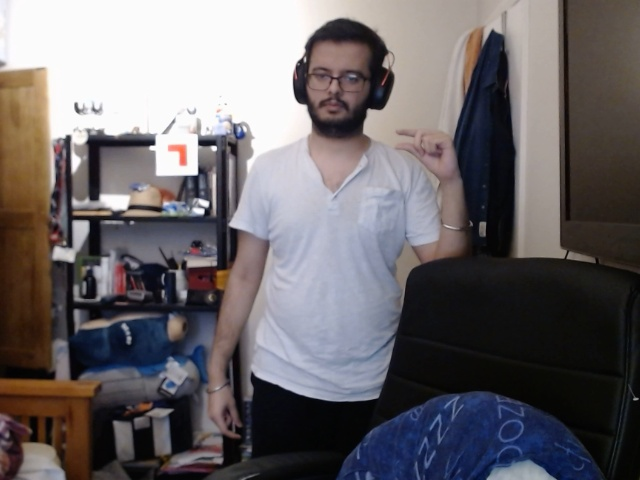Small: (394, 125, 472, 168)
